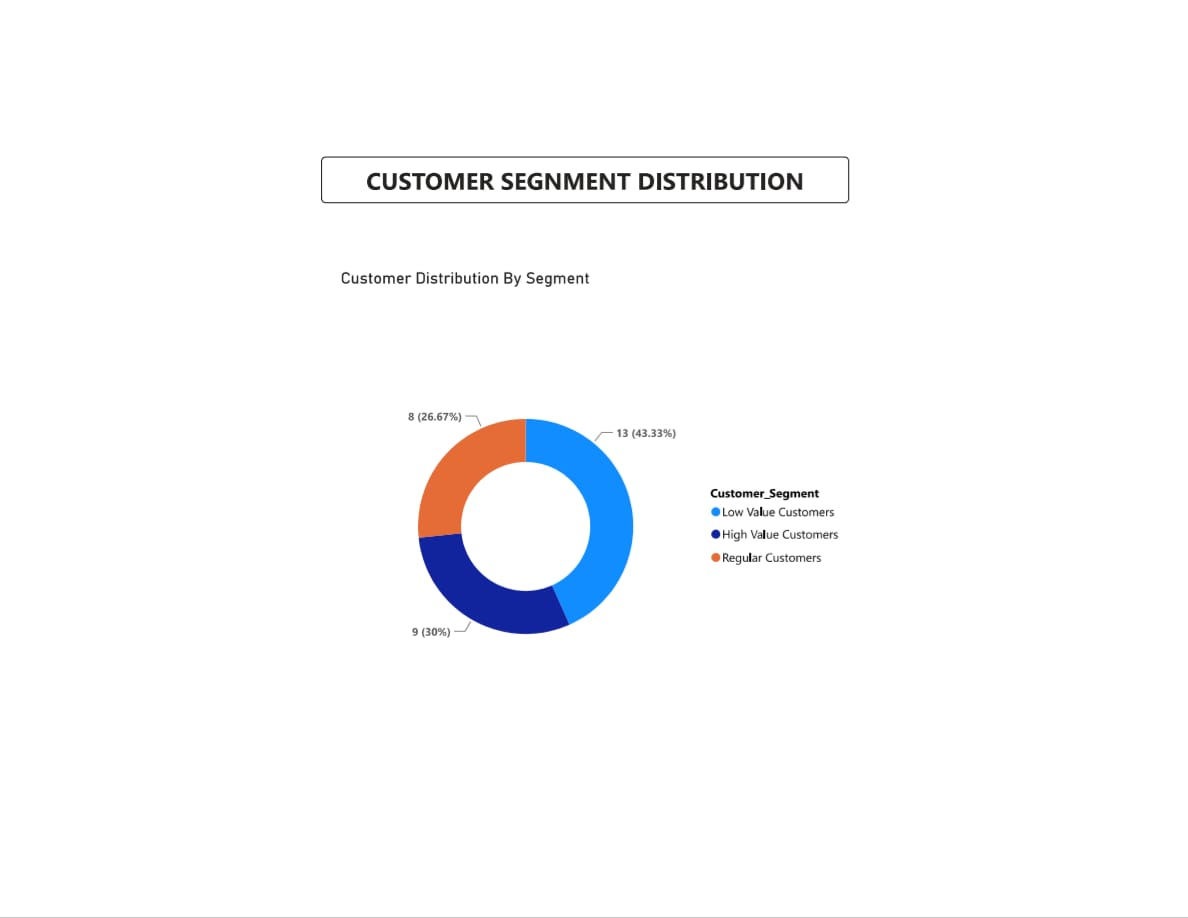

The dashboard page shown, as its layout file describes it:
{"tool":"powerbi","page":{"name":"Page 2","canvas":[1280,720],"ordinal":1},"visuals":[{"type":"textbox","box":[335,21.7,590,52],"z":0},{"type":"donutChart","title":"Customer Distribution By Segment","fields":{"Category":["Sheet1.Customer_Segment"],"Y":["CountNonNull(Sheet1.Customer_ID)"]},"box":[351.7,146.7,575,545],"z":1000}]}

Visuals, with their boxes on the page's 1280x720 design canvas (x1, y1, x2, y2). These are canvas units, not pixel positions in the 1188x918 screenshot, which may show the page scaled, cropped or inside an application window:
textbox: <bbox>335, 22, 925, 74</bbox>
"Customer Distribution By Segment" donutChart: <bbox>352, 147, 927, 692</bbox>
